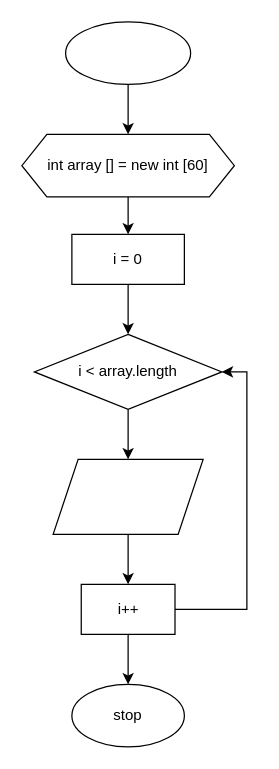
Some shapes in this 279 by 769 pixel diagram are drawn without their labels. Here are the shapes that lost their labels. From the top down, the centre of each, then its label:
At [127,52]: "start".
At [127,496]: "input array [i]".
